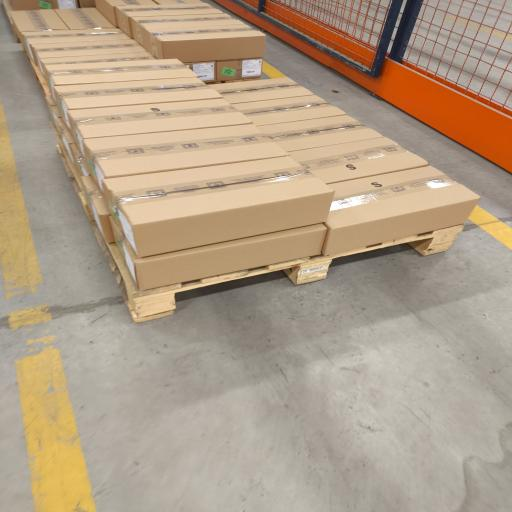pallet: (53, 126, 463, 323), (55, 131, 463, 323), (27, 56, 51, 96)
